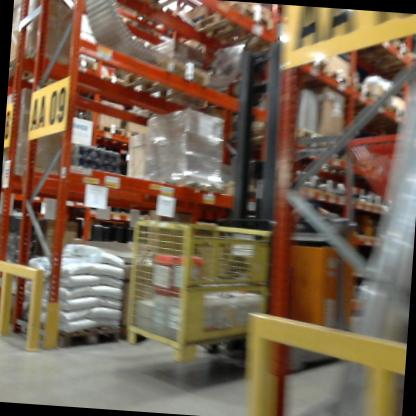forklift: (202, 35, 394, 388)
pallet: (102, 43, 215, 112), (0, 307, 122, 359), (178, 0, 284, 51), (126, 0, 206, 25), (94, 121, 126, 140), (124, 131, 153, 143)
stillage: (125, 210, 278, 370)
